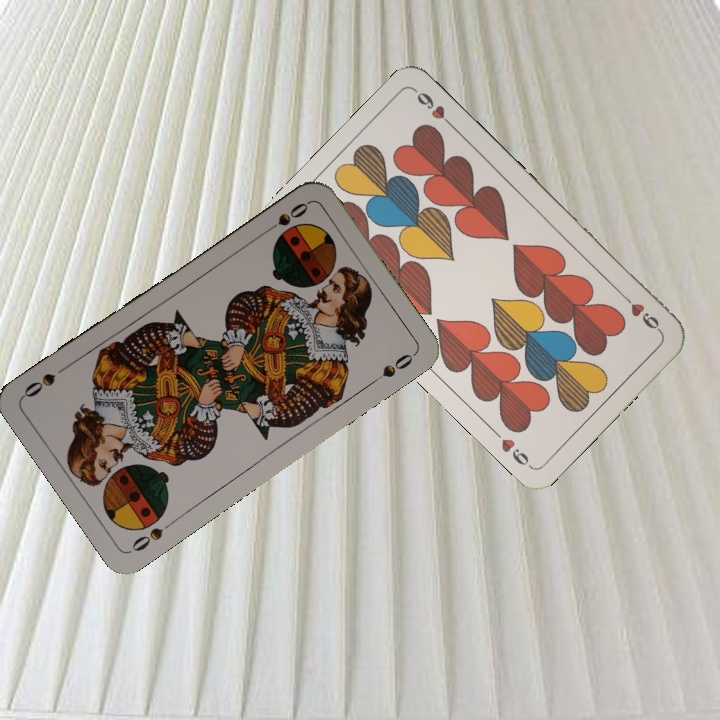H9: (617, 290, 664, 336)
SO: (127, 515, 178, 555), (259, 198, 311, 237)
